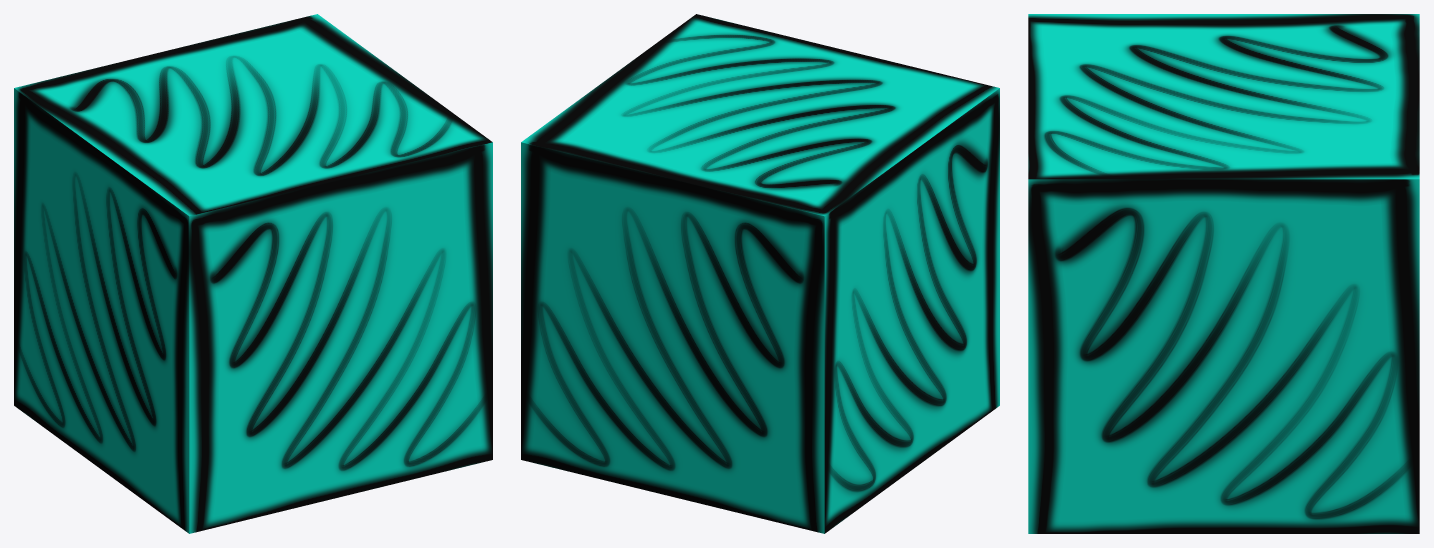
Rendered from staticPU.glb.
3 views of the same model, side by side, from view 1: azimuth 30°, elevation 25°; view 2: azimuth 150°, elevation 25°; view 3: azimuth 270°, elevation 25° (orthographic). The views are drawn at different scales.
Visible parts, largest first — view 1: PowerupSymbol; view 2: PowerupSymbol; view 3: PowerupSymbol.
Boxes of the visible parts, box(x1,y1,x2,y2) form: PowerupSymbol: box(14, 14, 492, 533); PowerupSymbol: box(521, 14, 999, 533); PowerupSymbol: box(1028, 14, 1419, 533).
Bounding box in the file's own units: 2.02 × 2.02 × 2.02.
Materials: 2 (1 with a texture image).
